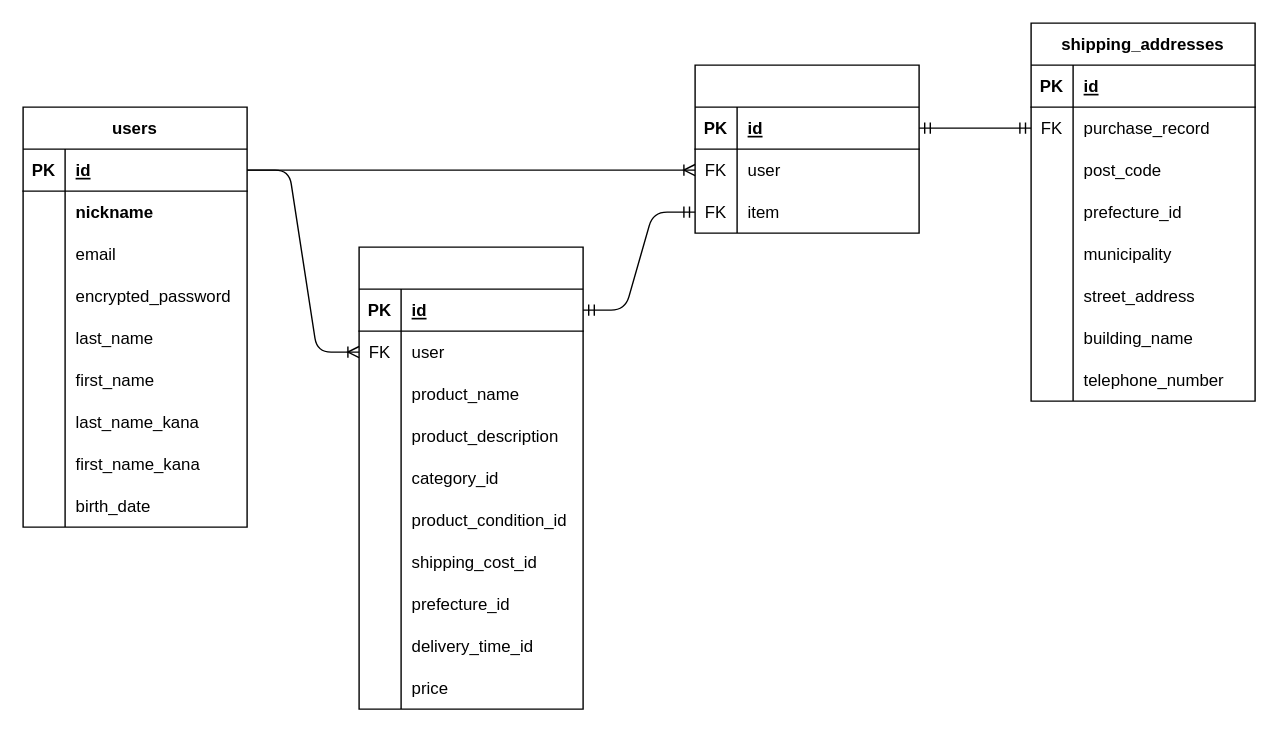
This 1278x732 diagram has some shape labels left out. The box of each missing label's shape, as (x1, y1, x2, y2) in pixels:
items: (358, 246, 583, 709)
purchase_records: (694, 64, 919, 233)
